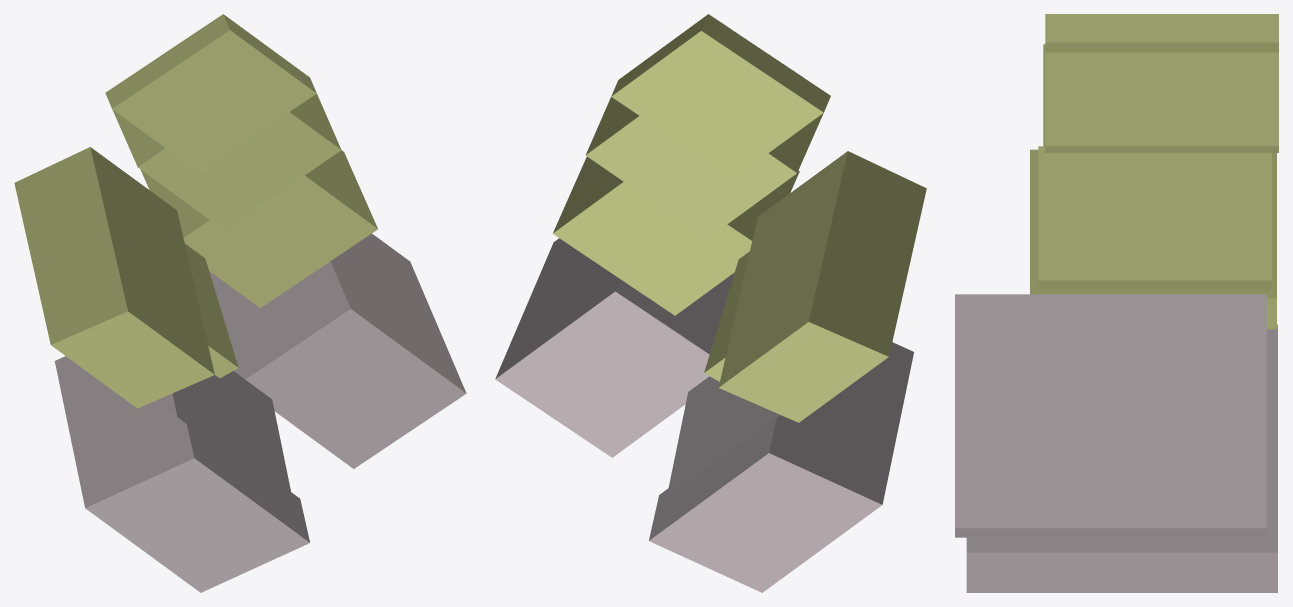
3 views of the same model, side by side, from view 1: azimuth 30°, elevation 25°; view 2: azimuth 150°, elevation 25°; view 3: azimuth 270°, elevation 25° (orthographic). The views are drawn at different scales.
Parts seen in each view (by area): view 1: 0_2_2_0_0_0_1_3_3_0; view 2: 0_2_2_0_0_0_1_3_3_0; view 3: 0_2_2_0_0_0_1_3_3_0.
Boxes of the visible parts, <box> form: 0_2_2_0_0_0_1_3_3_0: <box>14,14,466,592</box>; 0_2_2_0_0_0_1_3_3_0: <box>495,14,926,592</box>; 0_2_2_0_0_0_1_3_3_0: <box>955,14,1278,592</box>.
Size of the model in its own units: 19.91 by 26.32 by 12.47.
